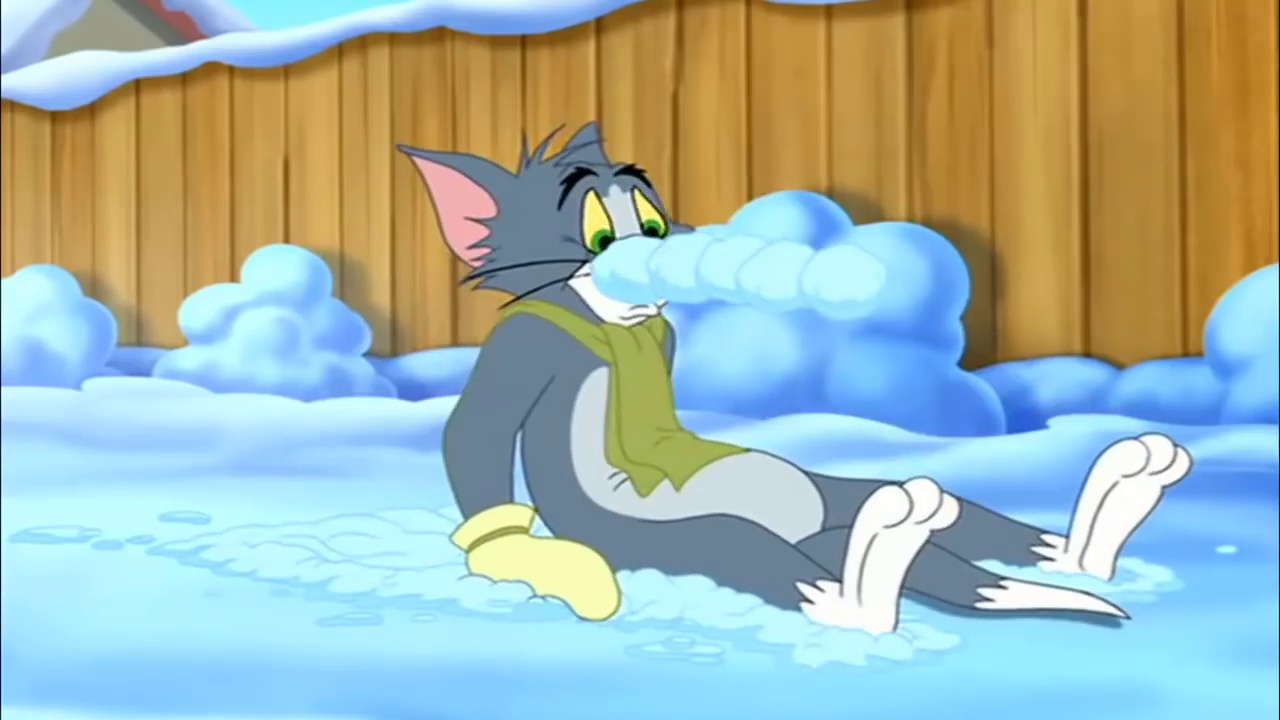face: (550, 159, 687, 329)
